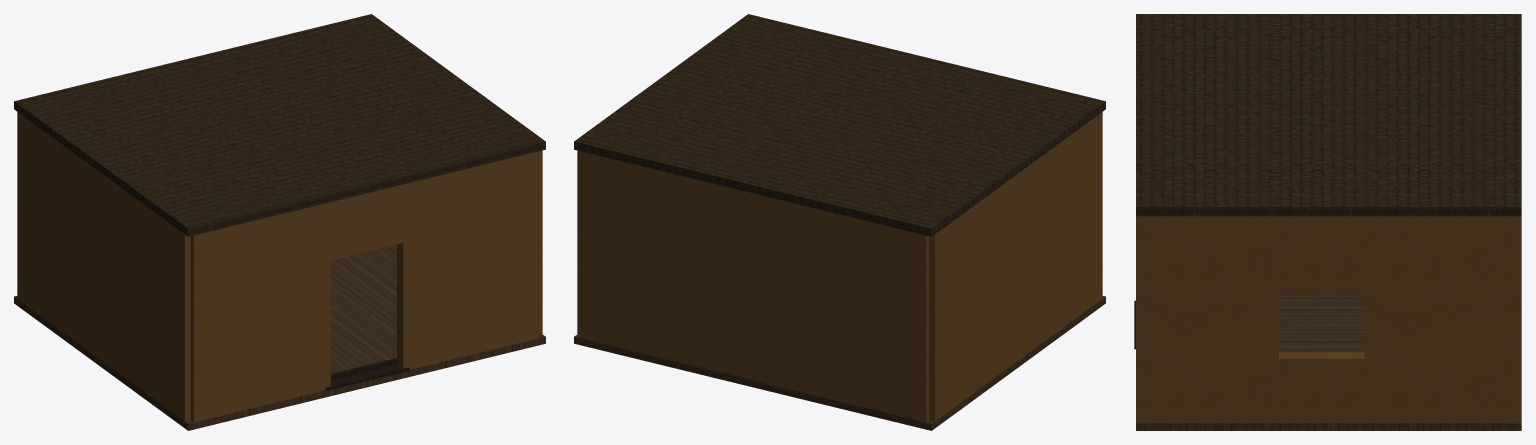
The model's file is int_jp_minka_01.glb.
3 views of the same model, side by side, from view 1: azimuth 30°, elevation 25°; view 2: azimuth 150°, elevation 25°; view 3: azimuth 270°, elevation 25° (orthographic). The views are drawn at different scales.
Parts seen in each view (by area): view 1: int_jp_minka_01; view 2: int_jp_minka_01; view 3: int_jp_minka_01.
Part boxes in pixels (x1,y1,x2,y2): int_jp_minka_01: (14,14,545,430); int_jp_minka_01: (574,14,1105,430); int_jp_minka_01: (1134,14,1521,430).
Bounding box in the file's own units: 6.4 × 3.46 × 5.42.
Materials: 6 (6 with a texture image).
